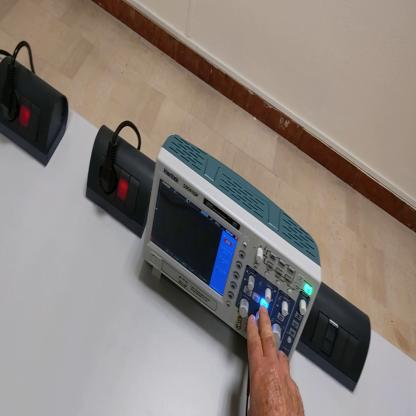hand: (246, 303, 306, 415)
oscilloscope: (141, 134, 321, 362)
socket: (87, 125, 157, 242), (2, 54, 70, 168)
